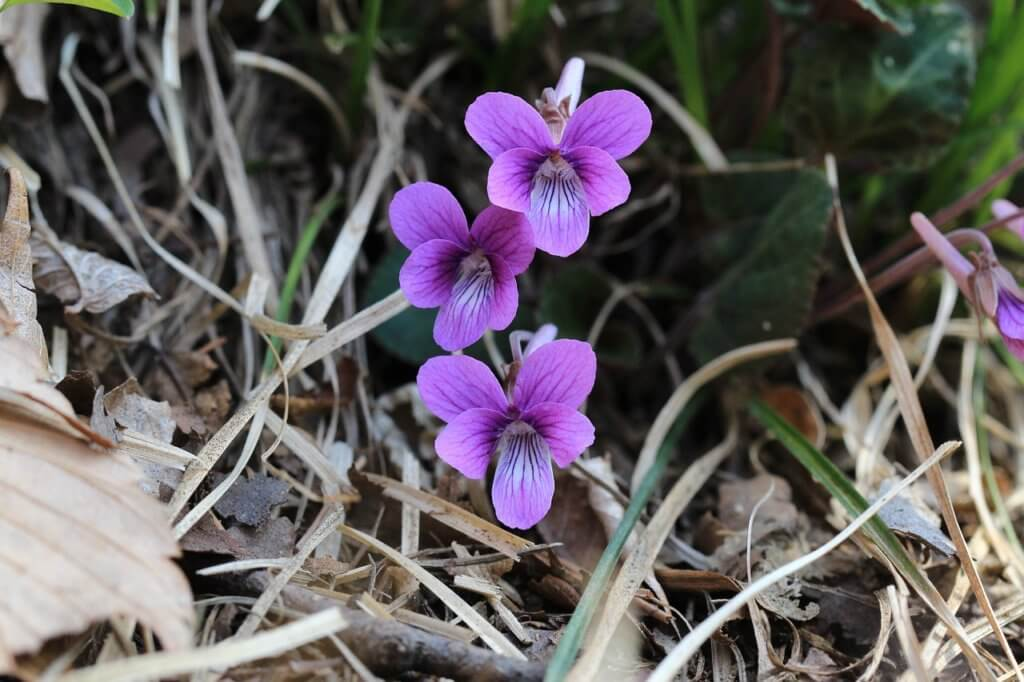violet: (408, 350, 617, 527), (464, 83, 654, 256), (385, 181, 541, 345)
